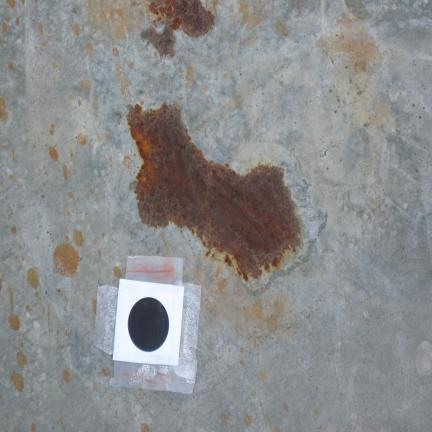karat: (127, 104, 300, 281)
